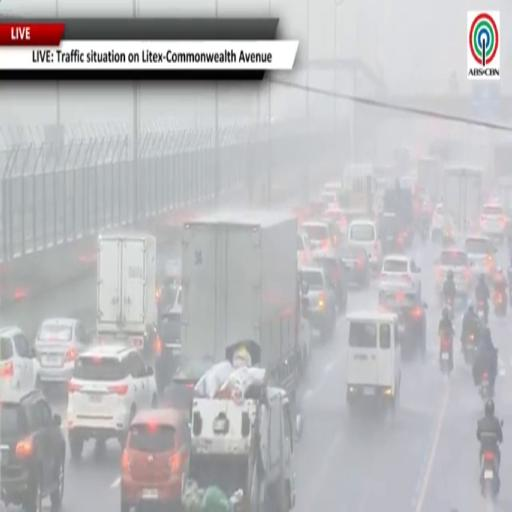car: (68, 344, 157, 459), (0, 390, 65, 511), (120, 409, 190, 511), (347, 311, 401, 410), (35, 318, 91, 387), (379, 290, 427, 356), (162, 358, 214, 411), (300, 267, 336, 339), (0, 327, 36, 391), (155, 306, 181, 394), (313, 252, 348, 312), (435, 248, 471, 298), (381, 254, 421, 298), (348, 219, 381, 270), (465, 235, 496, 281), (156, 260, 181, 312), (340, 246, 370, 285), (301, 220, 338, 251), (378, 212, 404, 254), (480, 202, 506, 241), (158, 281, 181, 314), (324, 206, 347, 236), (431, 203, 444, 241), (297, 232, 311, 266), (309, 200, 325, 219), (323, 181, 344, 194), (321, 190, 338, 205)
motorcycle: (480, 451, 500, 500), (440, 333, 453, 374), (463, 331, 476, 365), (480, 372, 494, 402), (493, 289, 507, 317), (477, 300, 487, 325), (445, 296, 454, 321)
truck: (181, 211, 300, 392), (182, 361, 295, 511), (96, 231, 160, 363), (443, 166, 483, 237), (381, 181, 414, 246), (339, 164, 375, 223), (418, 157, 442, 203)
